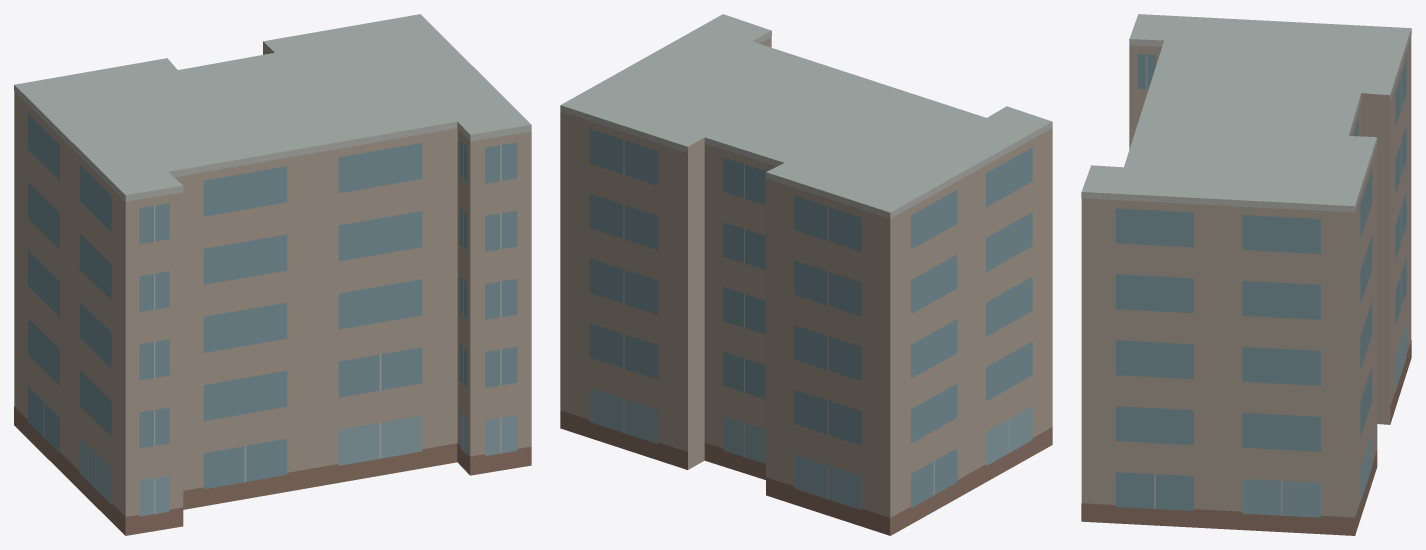
File: survey-upis-32996725.glb
The picture shows the model from 3 angles, left to right: view 1: azimuth 30°, elevation 25°; view 2: azimuth 150°, elevation 25°; view 3: azimuth 270°, elevation 25°; orthographic projection. The views are drawn at different scales.
Visible parts, largest first — view 1: survey-upis-32996725.tmp; view 2: survey-upis-32996725.tmp; view 3: survey-upis-32996725.tmp.
Part boxes in pixels (bbox=[...]): survey-upis-32996725.tmp: bbox=[14, 14, 531, 535]; survey-upis-32996725.tmp: bbox=[560, 14, 1052, 535]; survey-upis-32996725.tmp: bbox=[1081, 14, 1411, 535].
Size of the model in its own units: 15.76 by 12.6 by 11.44.
